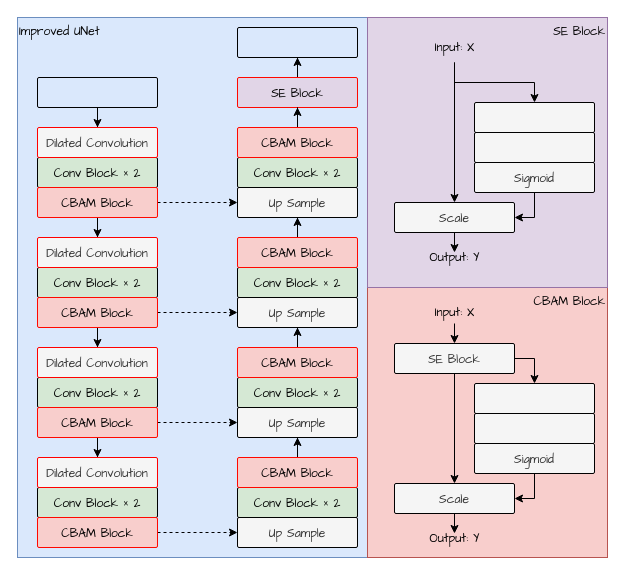
This 625x575 diagram has some shape labels left out. Each missing label, with the centre of its shape:
Conv: point 534,428
Gobal Avg Pool: point 534,117
Input Layer: point 97,92
Linear × 2: point 534,147
Max & Avg Pool: point 534,398
Output Layer: point 297,42
